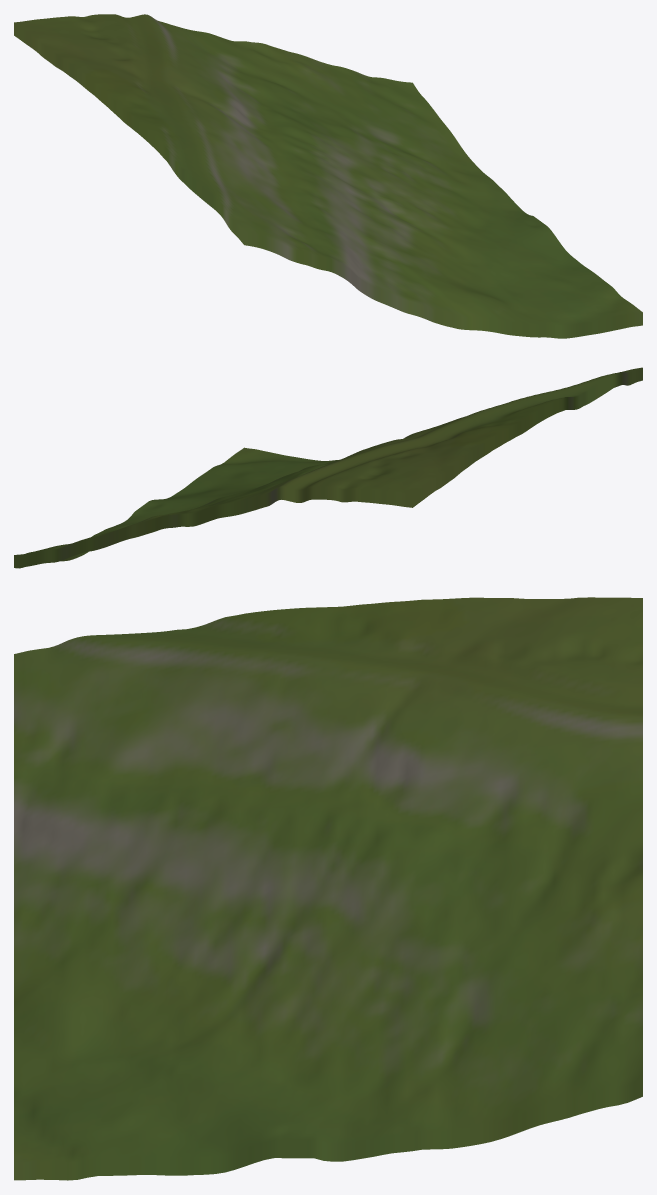
The model's file is terrain_4_-6.glb.
The picture shows the model from 3 angles, top to bottom: view 1: azimuth 30°, elevation 25°; view 2: azimuth 150°, elevation 25°; view 3: azimuth 270°, elevation 25°; orthographic projection. The views are drawn at different scales.
Visible parts, largest first — view 1: terrain_4_-6; view 2: terrain_4_-6; view 3: terrain_4_-6.
Boxes of the visible parts, <box> form: terrain_4_-6: <box>14,14,642,338</box>; terrain_4_-6: <box>14,367,642,568</box>; terrain_4_-6: <box>14,597,642,1180</box>.
Bounding box in the file's own units: 256 × 142 × 256.
